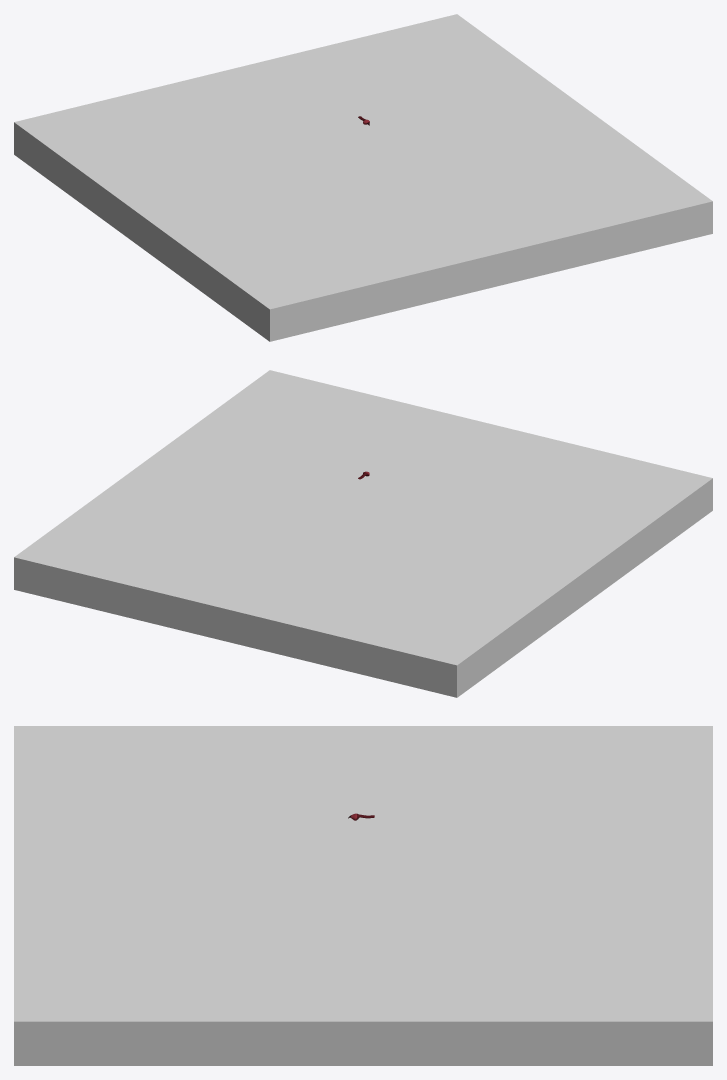
File: FrogTongueTwoParts 1.fbx
The picture shows the model from 3 angles, top to bottom: view 1: azimuth 30°, elevation 25°; view 2: azimuth 150°, elevation 25°; view 3: azimuth 270°, elevation 25°; orthographic projection. The views are drawn at different scales.
Visible parts, largest first — view 1: Plane; view 2: Plane; view 3: Plane.
Boxes of the visible parts, x1,y1,x2,y2 form: Plane: (14, 14, 712, 341); Plane: (14, 370, 712, 697); Plane: (14, 726, 712, 1065).
Size of the model in its own units: 823 by 135 by 823.
